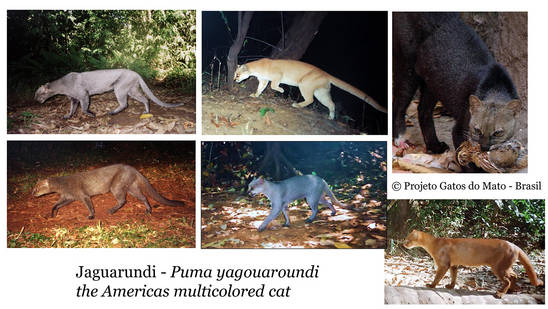Jaguarundi: (396, 18, 525, 144), (228, 56, 388, 121), (399, 227, 540, 300), (20, 162, 187, 219), (29, 62, 185, 117), (243, 170, 360, 234)
